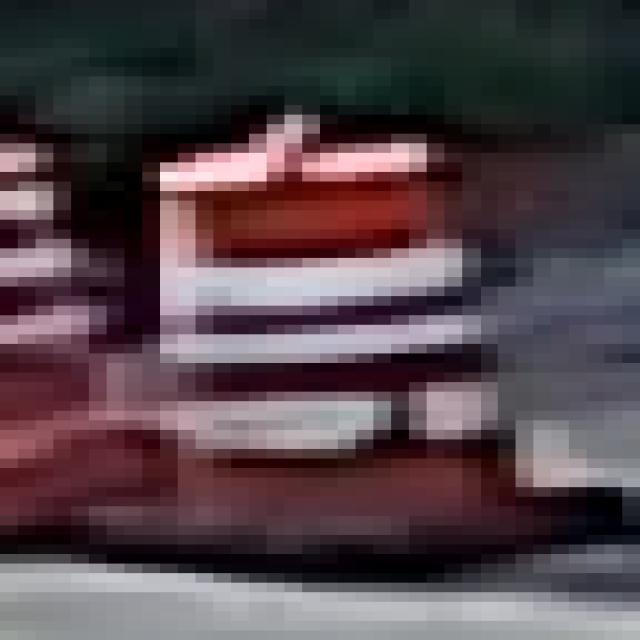big_cone: (164, 144, 463, 554)
